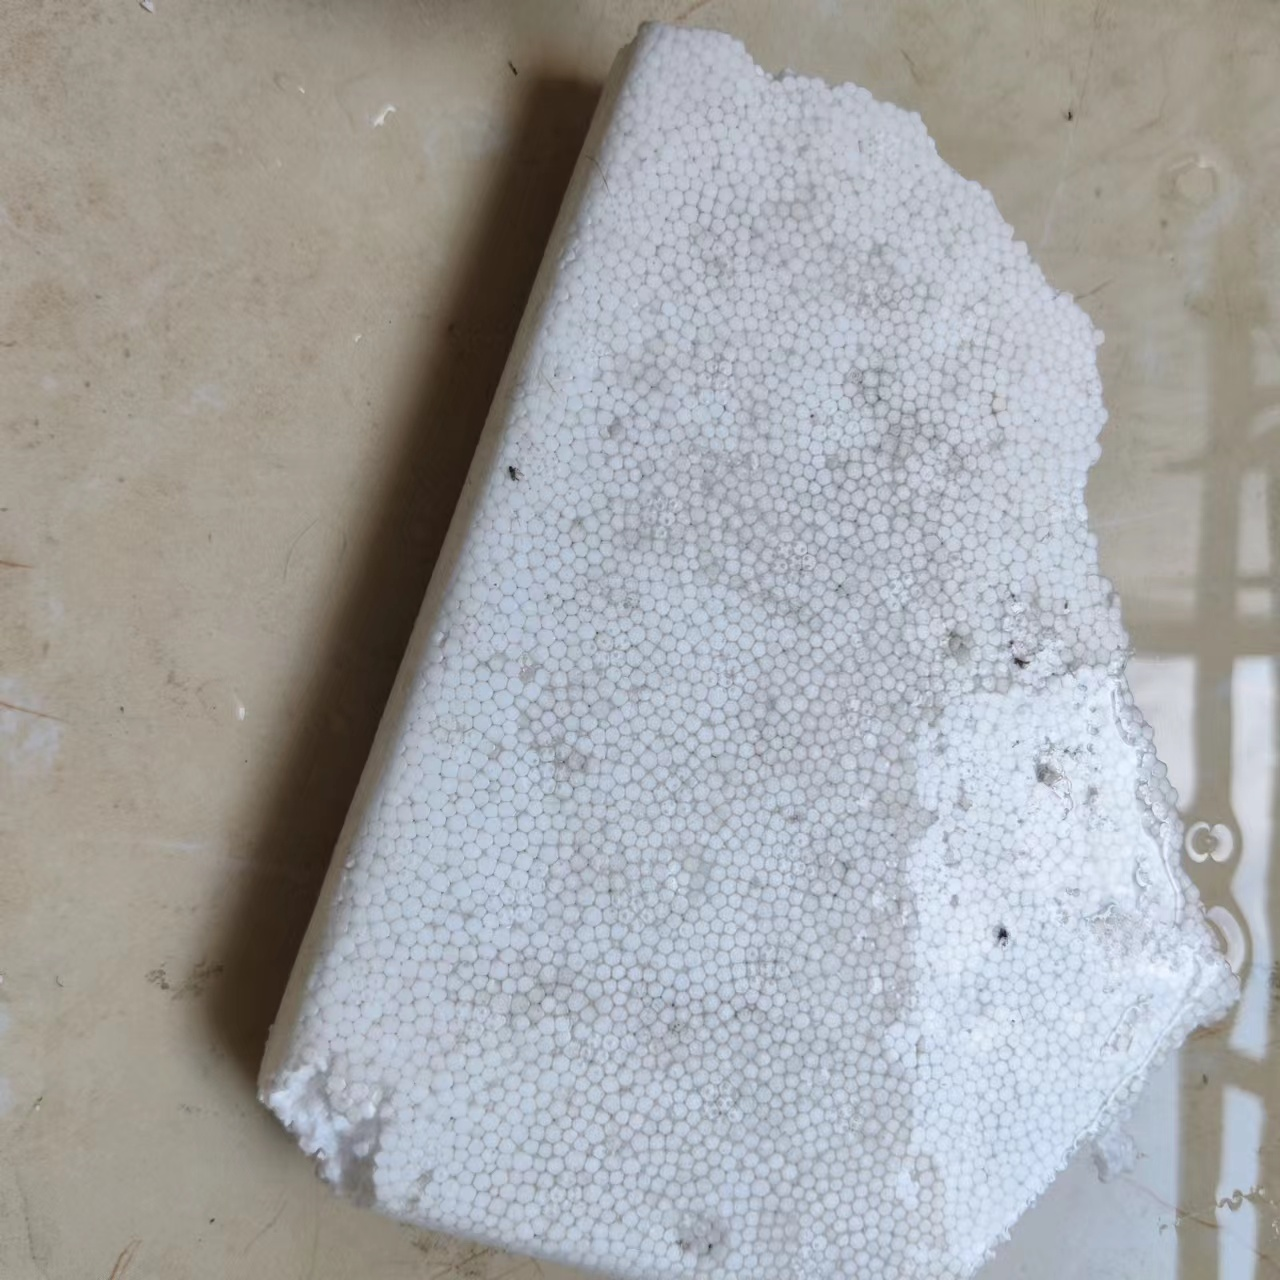5/可回收垃圾/泡沫: (256, 20, 1242, 1280)
